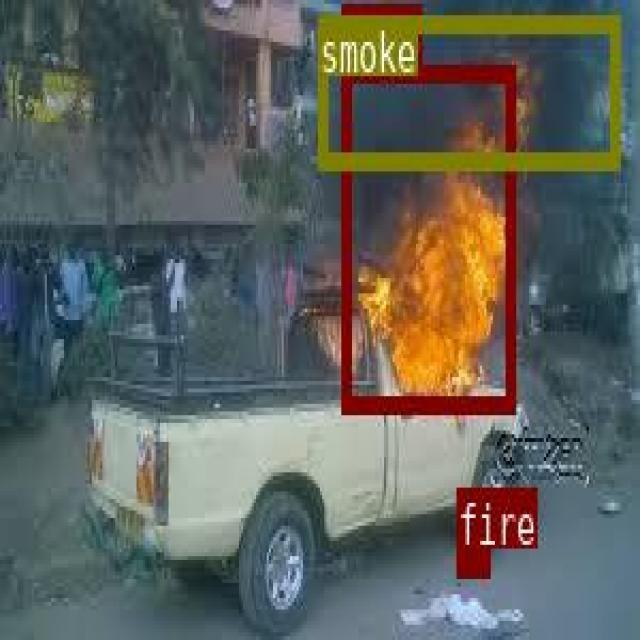fire: (341, 62, 513, 410), (456, 546, 487, 575)
smoke: (317, 12, 618, 164)
